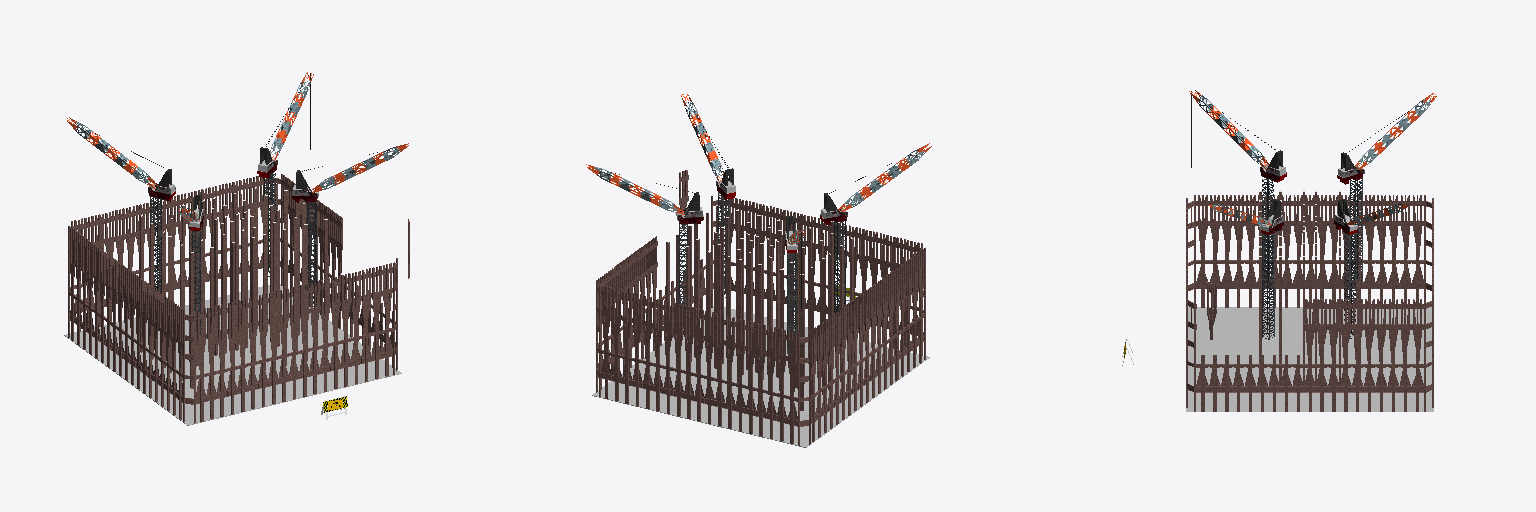
3 renders of one model, left to right at view 1: azimuth 30°, elevation 25°; view 2: azimuth 150°, elevation 25°; view 3: azimuth 270°, elevation 25°, orthographic.
Visible parts, largest first — view 1: Mesh142 Group19 World_Trade_Center_Tower_Construction1 WTC_Under, Mesh157 Component_2_3 Component_5_3 Component_7_3 WTC_Under_Cons, Mesh151 Component_2_2 Component_5_2 Component_7_2 Tower_Cranes1 , Mesh39 Gruppe_4_18 Group2 Group1 World_Trade_Center_Tower_Constr, Mesh14 Group14 Group11 Group2 Group1 World_Trade_Center_Tower_Co, Mesh15 Group16 Group15 Group2 Group1 World_Trade_Center_Tower_Co, Mesh72 Gruppe_4_50 Group2 Group1 World_Trade_Center_Tower_Constr, Mesh68 Gruppe_4_46 Group2 Group1 World_Trade_Center_Tower_Constr, Mesh71 Gruppe_4_49 Group2 Group1 World_Trade_Center_Tower_Constr, Mesh32 Gruppe_4_12 Group2 Group1 World_Trade_Center_Tower_Constr, Mesh38 Gruppe_4_17 Group2 Group1 World_Trade_Center_Tower_Constr, Mesh36 Gruppe_4_15 Group2 Group1 World_Trade_Center_Tower_Constr (+21 smaller); view 2: Mesh142 Group19 World_Trade_Center_Tower_Construction1 WTC_Under, Mesh163 Component_2_4 Component_5_4 Component_7_4 WTC_Under_Cons, Mesh145 Component_2_1 Component_5_1 Component_7_1 Tower_Cranes1 , Mesh24 Gruppe_4_5 Group2 Group1 World_Trade_Center_Tower_Constru, Mesh20 Gruppe_4_2 Group2 Group1 World_Trade_Center_Tower_Constru, Mesh6 Group4 Group3 Group2 Group1 World_Trade_Center_Tower_Const, Mesh26 Gruppe_4_7 Group2 Group1 World_Trade_Center_Tower_Constru, Mesh37 Gruppe_4_16 Group2 Group1 World_Trade_Center_Tower_Constr, Mesh25 Gruppe_4_6 Group2 Group1 World_Trade_Center_Tower_Constru, Mesh11 Group10 Group7 Group2 Group1 World_Trade_Center_Tower_Con, Mesh22 Gruppe_4_3 Group2 Group1 World_Trade_Center_Tower_Constru, Mesh50 Gruppe_4_29 Group2 Group1 World_Trade_Center_Tower_Constr (+28 smaller); view 3: Mesh142 Group19 World_Trade_Center_Tower_Construction1 WTC_Under, Mesh155 Component_6_2 Component_7_2 Tower_Cranes1 WTC_Under_Cons, Mesh163 Component_2_4 Component_5_4 Component_7_4 WTC_Under_Cons, Mesh157 Component_2_3 Component_5_3 Component_7_3 WTC_Under_Cons, Mesh60 Gruppe_4_38 Group2 Group1 World_Trade_Center_Tower_Constr, Mesh51 Gruppe_4_30 Group2 Group1 World_Trade_Center_Tower_Constr, Mesh52 Gruppe_4_31 Group2 Group1 World_Trade_Center_Tower_Constr, Mesh12 Group12 Group11 Group2 Group1 World_Trade_Center_Tower_Co, Mesh23 Gruppe_4_4 Group2 Group1 World_Trade_Center_Tower_Constru, Mesh33 Gruppe_4_13 Group2 Group1 World_Trade_Center_Tower_Constr, Mesh78 Gruppe_4_56 Group2 Group1 World_Trade_Center_Tower_Constr, Mesh61 Gruppe_4_39 Group2 Group1 World_Trade_Center_Tower_Constr (+21 smaller).
Part boxes in pixels (bbox=[...]): Mesh142 Group19 World_Trade_Center_Tower_Construction1 WTC_Under: bbox=[65, 284, 400, 424]; Mesh157 Component_2_3 Component_5_3 Component_7_3 WTC_Under_Cons: bbox=[67, 117, 157, 188]; Mesh151 Component_2_2 Component_5_2 Component_7_2 Tower_Cranes1 : bbox=[311, 143, 408, 192]; Mesh39 Gruppe_4_18 Group2 Group1 World_Trade_Center_Tower_Constr: bbox=[340, 273, 351, 386]; Mesh14 Group14 Group11 Group2 Group1 World_Trade_Center_Tower_Co: bbox=[196, 308, 206, 421]; Mesh15 Group16 Group15 Group2 Group1 World_Trade_Center_Tower_Co: bbox=[382, 263, 393, 376]; Mesh72 Gruppe_4_50 Group2 Group1 World_Trade_Center_Tower_Constr: bbox=[371, 266, 382, 378]; Mesh68 Gruppe_4_46 Group2 Group1 World_Trade_Center_Tower_Constr: bbox=[206, 306, 217, 419]; Mesh71 Gruppe_4_49 Group2 Group1 World_Trade_Center_Tower_Constr: bbox=[299, 283, 309, 396]; Mesh32 Gruppe_4_12 Group2 Group1 World_Trade_Center_Tower_Constr: bbox=[268, 291, 278, 404]; Mesh38 Gruppe_4_17 Group2 Group1 World_Trade_Center_Tower_Constr: bbox=[237, 298, 247, 411]; Mesh36 Gruppe_4_15 Group2 Group1 World_Trade_Center_Tower_Constr: bbox=[330, 276, 340, 388]; Mesh142 Group19 World_Trade_Center_Tower_Construction1 WTC_Under: bbox=[593, 306, 928, 446]; Mesh163 Component_2_4 Component_5_4 Component_7_4 WTC_Under_Cons: bbox=[838, 143, 931, 211]; Mesh145 Component_2_1 Component_5_1 Component_7_1 Tower_Cranes1 : bbox=[586, 164, 684, 214]; Mesh24 Gruppe_4_5 Group2 Group1 World_Trade_Center_Tower_Constru: bbox=[683, 305, 694, 418]; Mesh20 Gruppe_4_2 Group2 Group1 World_Trade_Center_Tower_Constru: bbox=[653, 298, 663, 411]; Mesh6 Group4 Group3 Group2 Group1 World_Trade_Center_Tower_Const: bbox=[787, 331, 797, 443]; Mesh26 Gruppe_4_7 Group2 Group1 World_Trade_Center_Tower_Constru: bbox=[642, 295, 652, 408]; Mesh37 Gruppe_4_16 Group2 Group1 World_Trade_Center_Tower_Constr: bbox=[611, 288, 621, 401]; Mesh25 Gruppe_4_6 Group2 Group1 World_Trade_Center_Tower_Constru: bbox=[673, 303, 683, 416]; Mesh11 Group10 Group7 Group2 Group1 World_Trade_Center_Tower_Con: bbox=[600, 285, 611, 398]; Mesh22 Gruppe_4_3 Group2 Group1 World_Trade_Center_Tower_Constru: bbox=[745, 321, 755, 433]; Mesh50 Gruppe_4_29 Group2 Group1 World_Trade_Center_Tower_Constr: bbox=[622, 290, 632, 403]; Mesh142 Group19 World_Trade_Center_Tower_Construction1 WTC_Under: bbox=[1186, 307, 1433, 411]; Mesh155 Component_6_2 Component_7_2 Tower_Cranes1 WTC_Under_Cons: bbox=[1262, 233, 1274, 339]; Mesh163 Component_2_4 Component_5_4 Component_7_4 WTC_Under_Cons: bbox=[1189, 90, 1268, 168]; Mesh157 Component_2_3 Component_5_3 Component_7_3 WTC_Under_Cons: bbox=[1355, 93, 1436, 169]; Mesh60 Gruppe_4_38 Group2 Group1 World_Trade_Center_Tower_Constr: bbox=[1340, 299, 1351, 411]; Mesh51 Gruppe_4_30 Group2 Group1 World_Trade_Center_Tower_Constr: bbox=[1328, 299, 1339, 411]; Mesh52 Gruppe_4_31 Group2 Group1 World_Trade_Center_Tower_Constr: bbox=[1316, 299, 1327, 411]; Mesh12 Group12 Group11 Group2 Group1 World_Trade_Center_Tower_Co: bbox=[1196, 195, 1208, 307]; Mesh23 Gruppe_4_4 Group2 Group1 World_Trade_Center_Tower_Constru: bbox=[1304, 299, 1315, 411]; Mesh33 Gruppe_4_13 Group2 Group1 World_Trade_Center_Tower_Constr: bbox=[1364, 299, 1375, 411]; Mesh78 Gruppe_4_56 Group2 Group1 World_Trade_Center_Tower_Constr: bbox=[1352, 299, 1363, 411]; Mesh61 Gruppe_4_39 Group2 Group1 World_Trade_Center_Tower_Constr: bbox=[1317, 195, 1327, 303].
Bounding box in the file's own units: 853 × 725 × 960.
Materials: 73 (47 with a texture image).